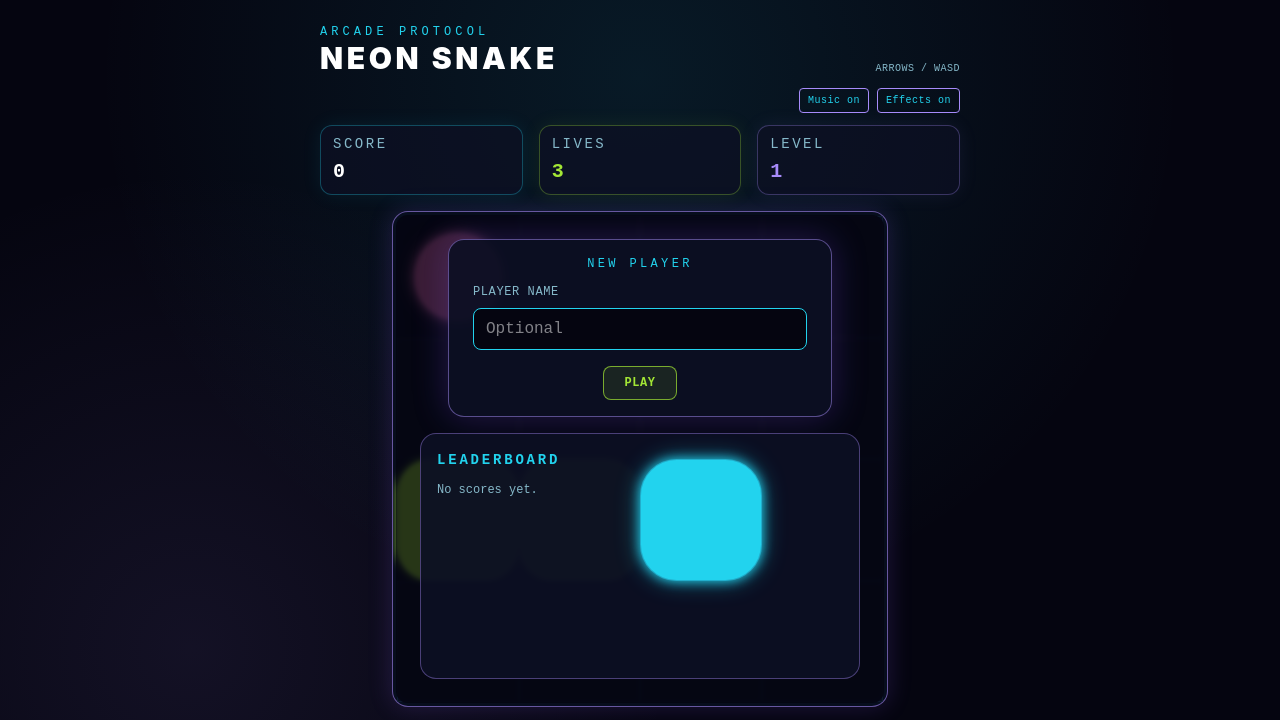
Test: Game › render › keeps playing and blinks the snake after a lost life
Click the button "Play" at (640, 383), box [603, 366, 677, 400]
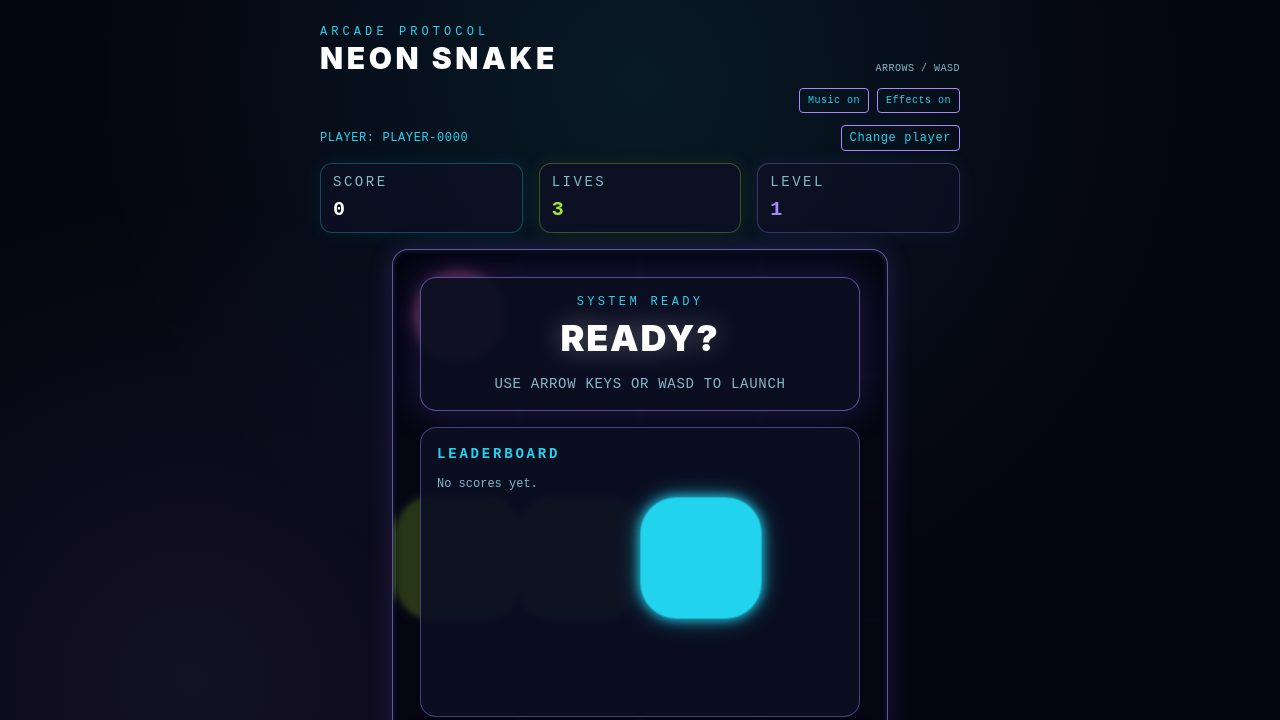
Press ArrowRight
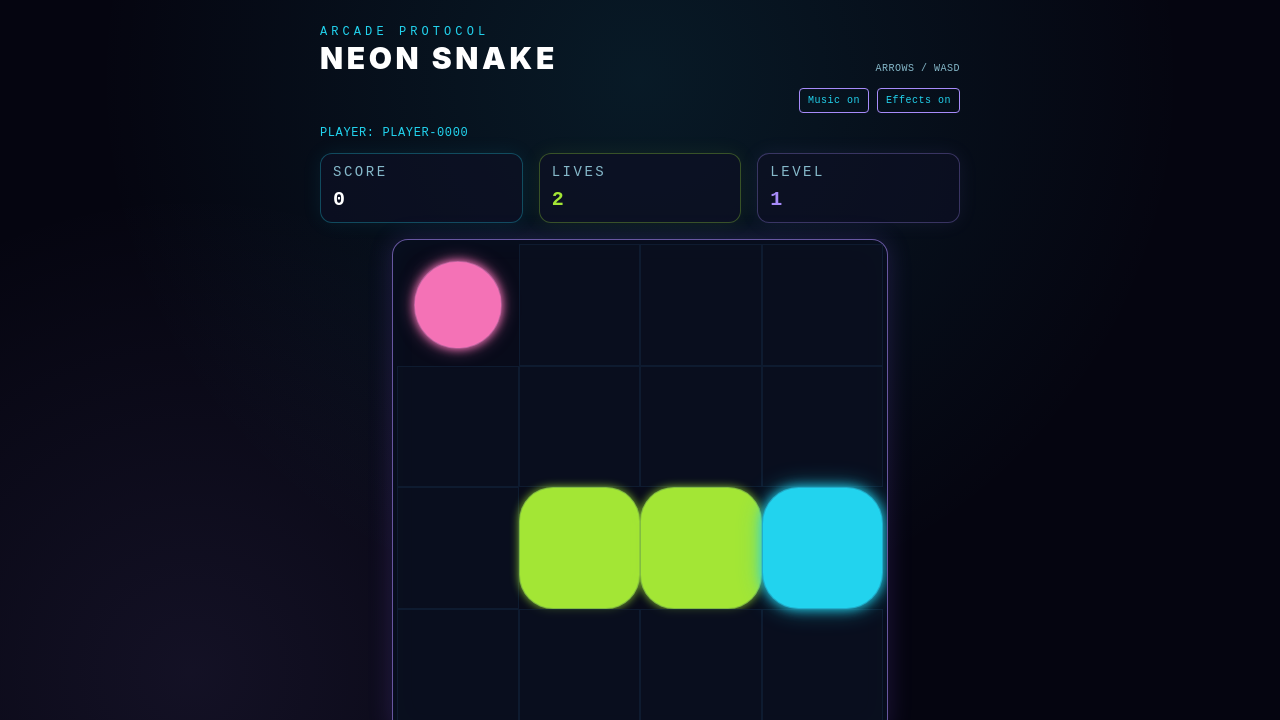
expect the button "Change player" is gone: met
expect the text named "Lives 2" is shown: met, box [552, 188, 566, 211]
expect the text "Ready?" is gone: met
